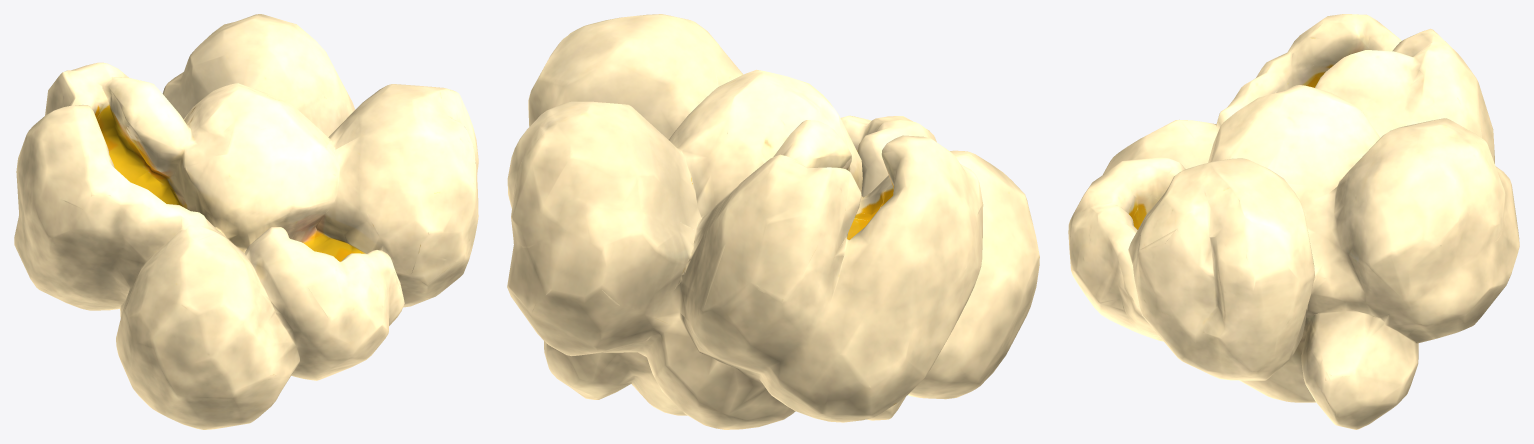
Rendered from Meshy_AI_Popcorn_Cluster_0613214537_texture.fbx.
3 views of the same model, side by side, from view 1: azimuth 30°, elevation 25°; view 2: azimuth 150°, elevation 25°; view 3: azimuth 270°, elevation 25° (orthographic). The views are drawn at different scales.
Parts seen in each view (by area): view 1: Mesh1.0; view 2: Mesh1.0; view 3: Mesh1.0.
Part boxes in pixels (box(x1,y1,x2,y2)): Mesh1.0: box(14, 14, 478, 429); Mesh1.0: box(507, 14, 1039, 429); Mesh1.0: box(1068, 14, 1519, 429).
Bounding box in the file's own units: 192 × 128 × 182.
1 material, 1 textured.
